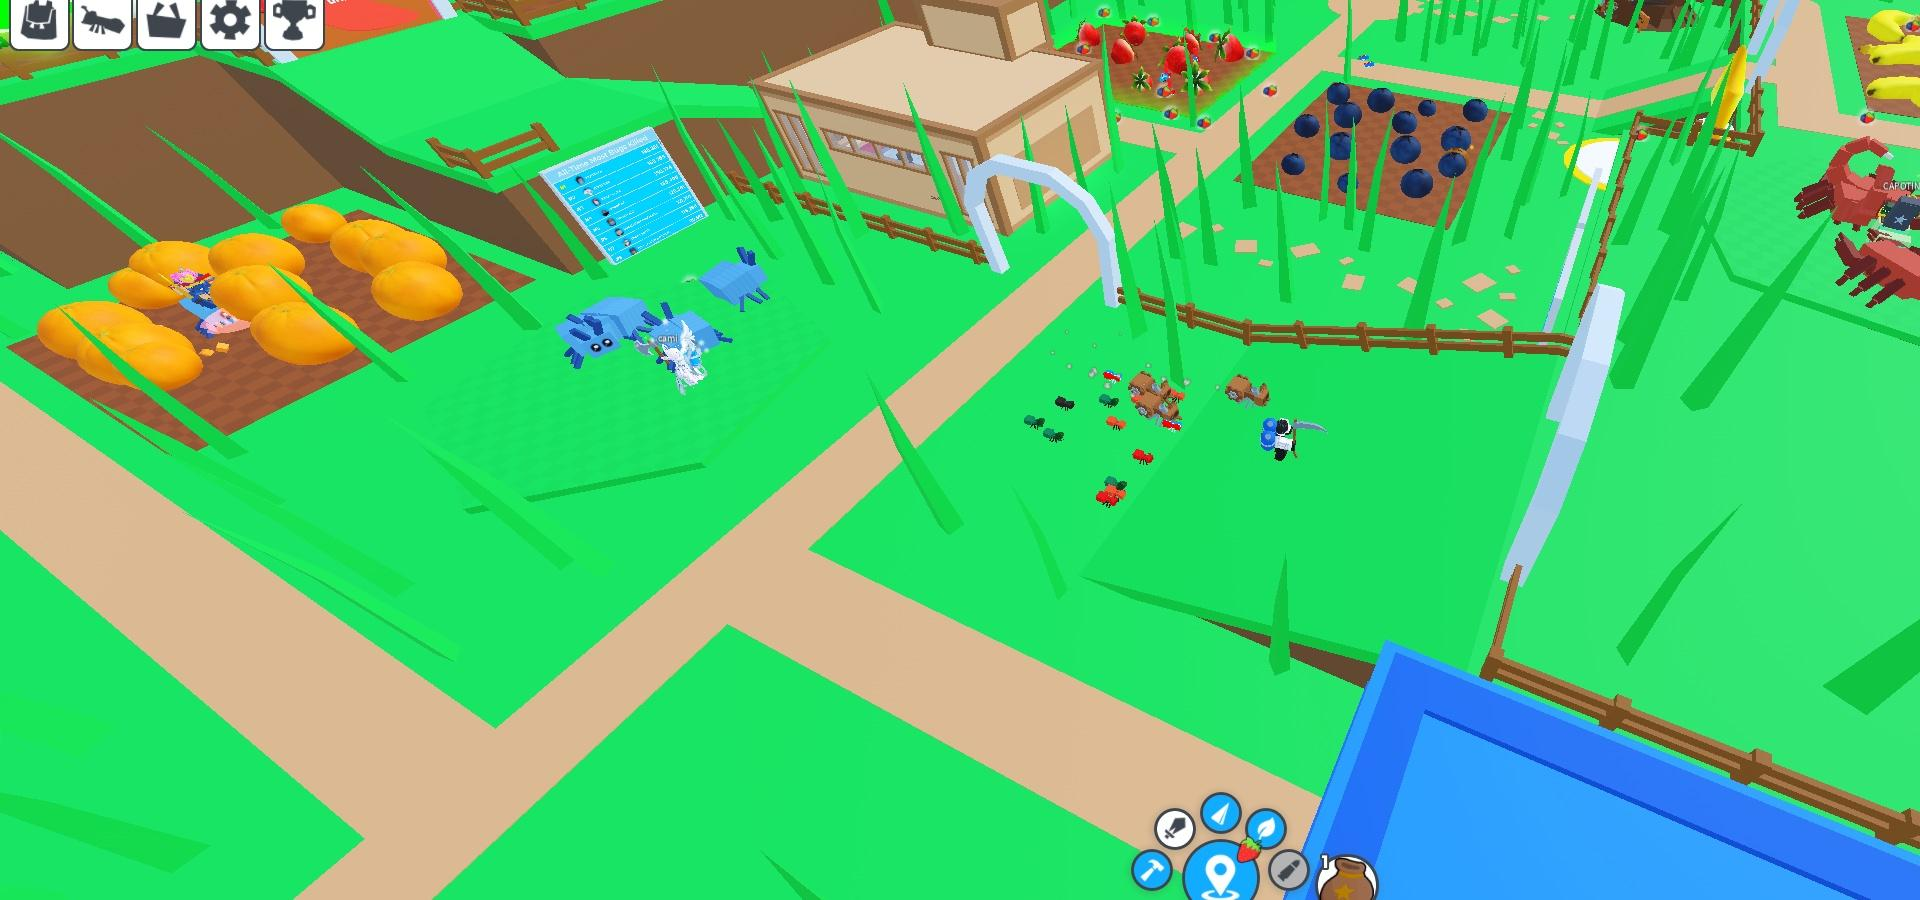Enemy: (652, 306, 735, 358), (555, 309, 625, 368), (577, 296, 660, 345), (698, 257, 771, 312)
